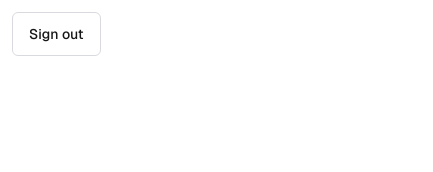
NavAuth › stays and says why when signing out fails
Click the button "Sign out": (56, 34) [12, 12, 101, 56]
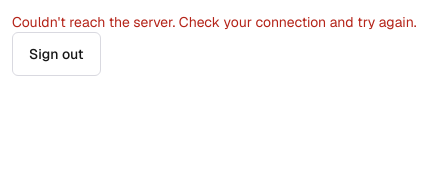
Now the message reads "Couldn't reach the server. Check your connection and try again.", box [12, 13, 417, 31]
